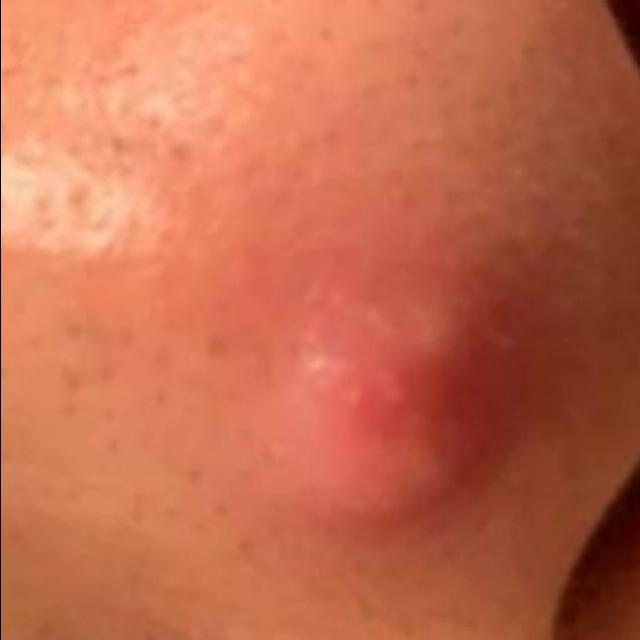nodule: (184, 204, 574, 578)
